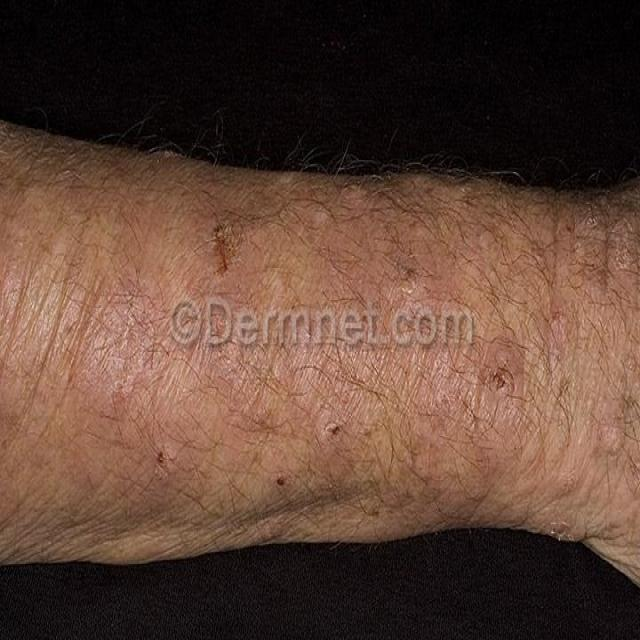Eczema: (204, 210, 623, 496)
